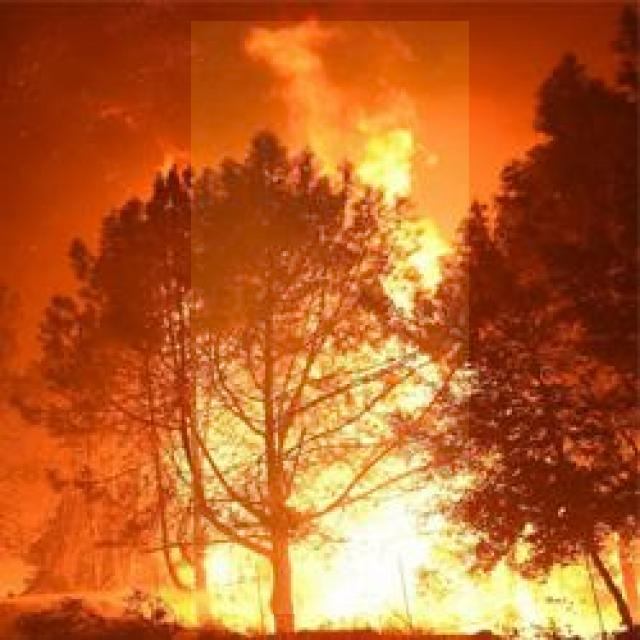Fire: (192, 21, 469, 614)
